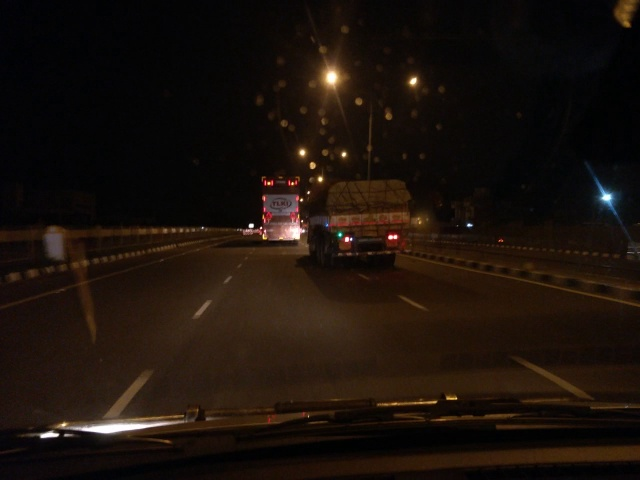bus: (259, 177, 303, 243)
truck: (307, 172, 423, 265)
